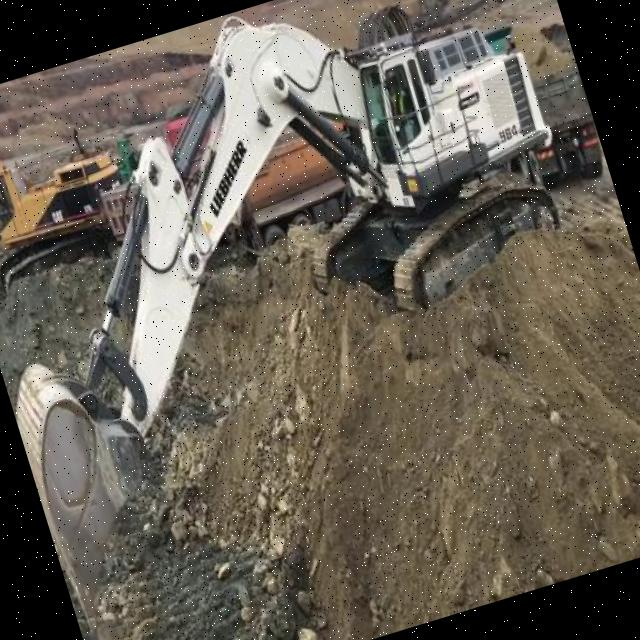Excavator: (0, 0, 640, 631), (0, 91, 135, 290)
